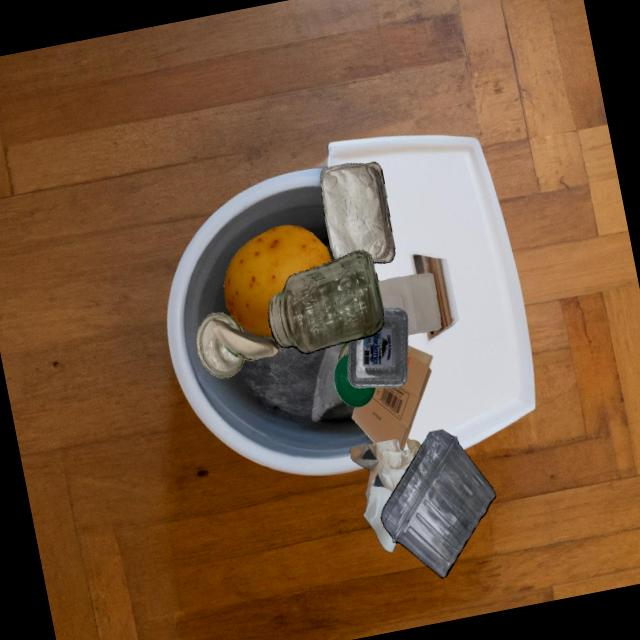biowaste: (224, 225, 332, 337)
cardboard: (352, 345, 433, 451)
glass: (268, 250, 384, 354), (197, 312, 245, 378), (338, 342, 348, 363), (407, 438, 422, 449), (268, 318, 270, 325)
metal: (321, 161, 395, 263)
paper: (350, 439, 420, 552), (212, 318, 280, 361), (376, 273, 379, 282)
plastic: (381, 429, 496, 578), (348, 307, 408, 388), (378, 273, 441, 335), (334, 354, 375, 407)
